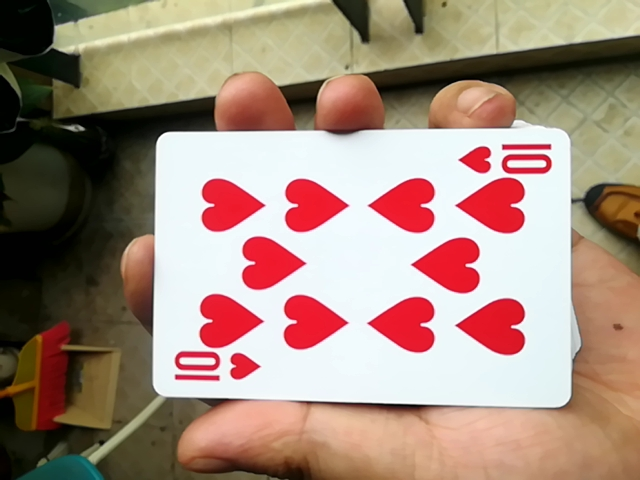hx 10: (146, 126, 573, 413)
